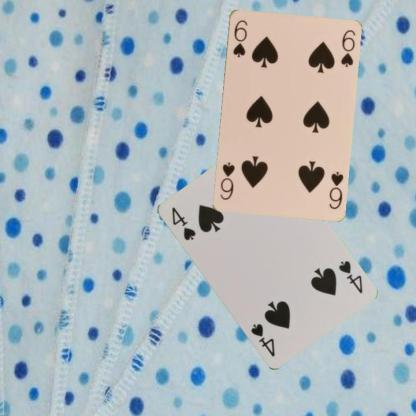4s: (168, 204, 197, 242), (335, 258, 364, 294)
6s: (230, 16, 248, 58), (326, 168, 344, 210)
